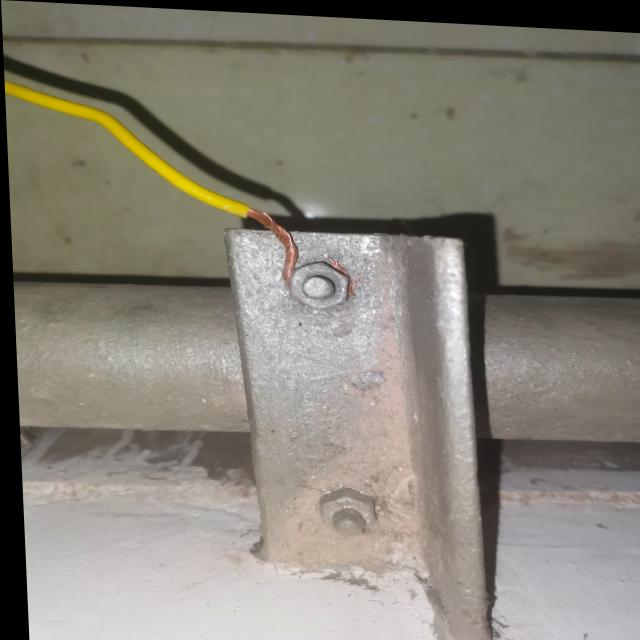Regular bolt: (285, 257, 347, 308), (313, 485, 372, 535)
